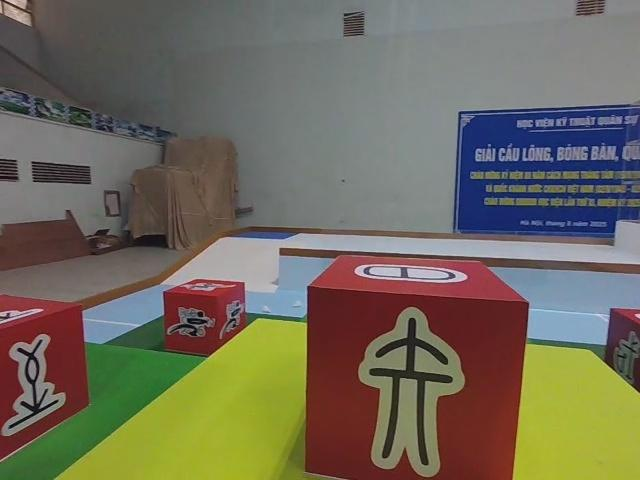R1: (162, 276, 246, 358)
R2 Fake: (309, 252, 529, 480)
R2 Real: (0, 297, 88, 467), (604, 307, 640, 393)
